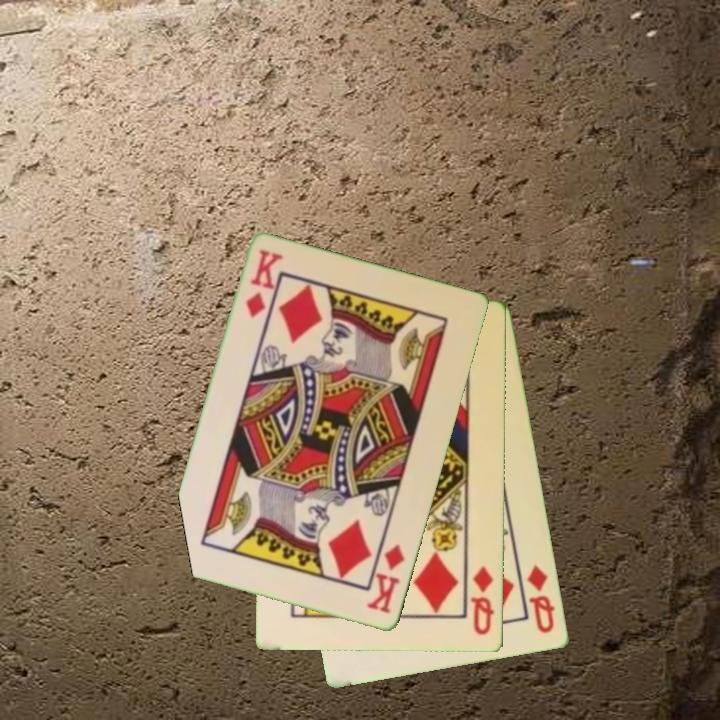Kd: (364, 541, 408, 617), (243, 246, 285, 322)
Qd: (524, 561, 559, 637), (467, 562, 498, 638)
